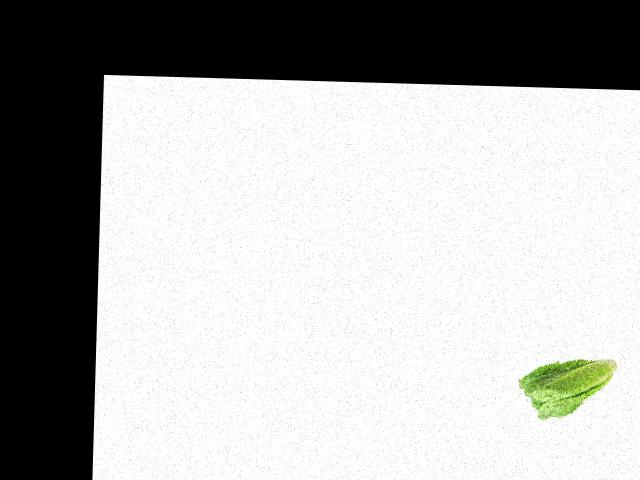lettuce: (517, 355, 627, 423)
